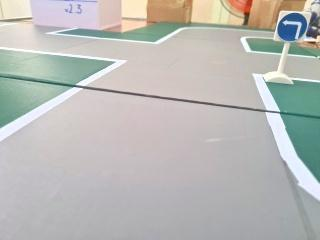left: (270, 6, 316, 47)
